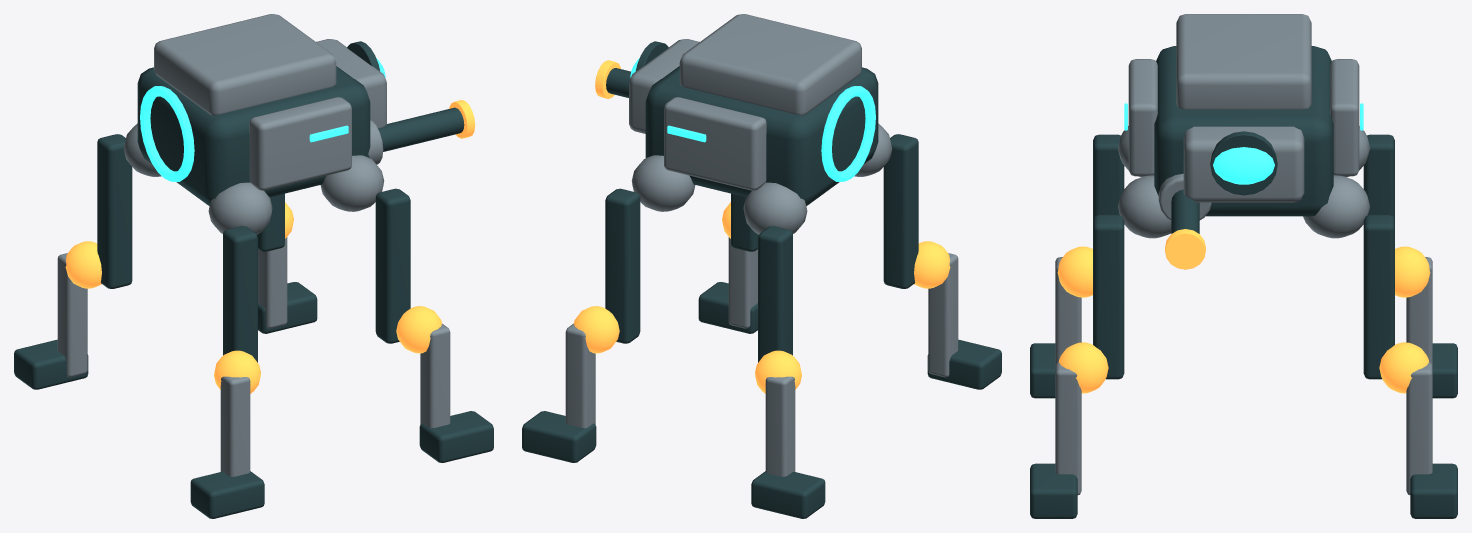
File: SM_Ridgefire_Sentinel.fbx
3 views of the same model, side by side, from view 1: azimuth 30°, elevation 25°; view 2: azimuth 150°, elevation 25°; view 3: azimuth 270°, elevation 25° (orthographic). The views are drawn at different scales.
Visible parts, largest first — view 1: SM_Ridgefire_Sentinel; view 2: SM_Ridgefire_Sentinel; view 3: SM_Ridgefire_Sentinel.
Boxes of the visible parts, x1,y1,x2,y2 form: SM_Ridgefire_Sentinel: (14, 14, 493, 518); SM_Ridgefire_Sentinel: (522, 14, 1001, 518); SM_Ridgefire_Sentinel: (1030, 14, 1457, 518).
Size of the model in its own units: 111 by 120 by 117.
